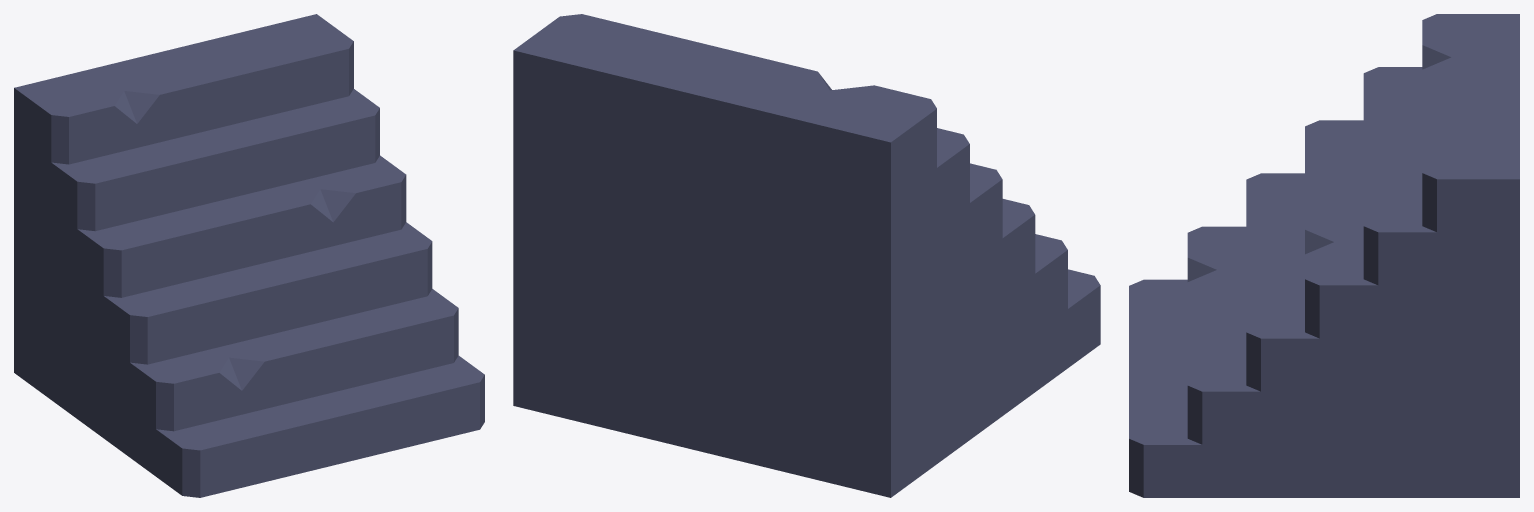
Rendered from kenney_mini-dungeon__stairs__cave.fbx.
3 renders of one model, left to right at view 1: azimuth 30°, elevation 25°; view 2: azimuth 150°, elevation 25°; view 3: azimuth 270°, elevation 25°, orthographic. The views are drawn at different scales.
Visible parts, largest first — view 1: kenney_mini-dungeon__stairs__cave_stone; view 2: kenney_mini-dungeon__stairs__cave_stone; view 3: kenney_mini-dungeon__stairs__cave_stone.
Part boxes in pixels (x1,y1,x2,y2): kenney_mini-dungeon__stairs__cave_stone: (14, 14, 484, 497); kenney_mini-dungeon__stairs__cave_stone: (513, 14, 1100, 497); kenney_mini-dungeon__stairs__cave_stone: (1129, 14, 1519, 497).
Bounding box in the file's own units: 3.57 × 3.21 × 3.57.
1 material, 1 textured.
